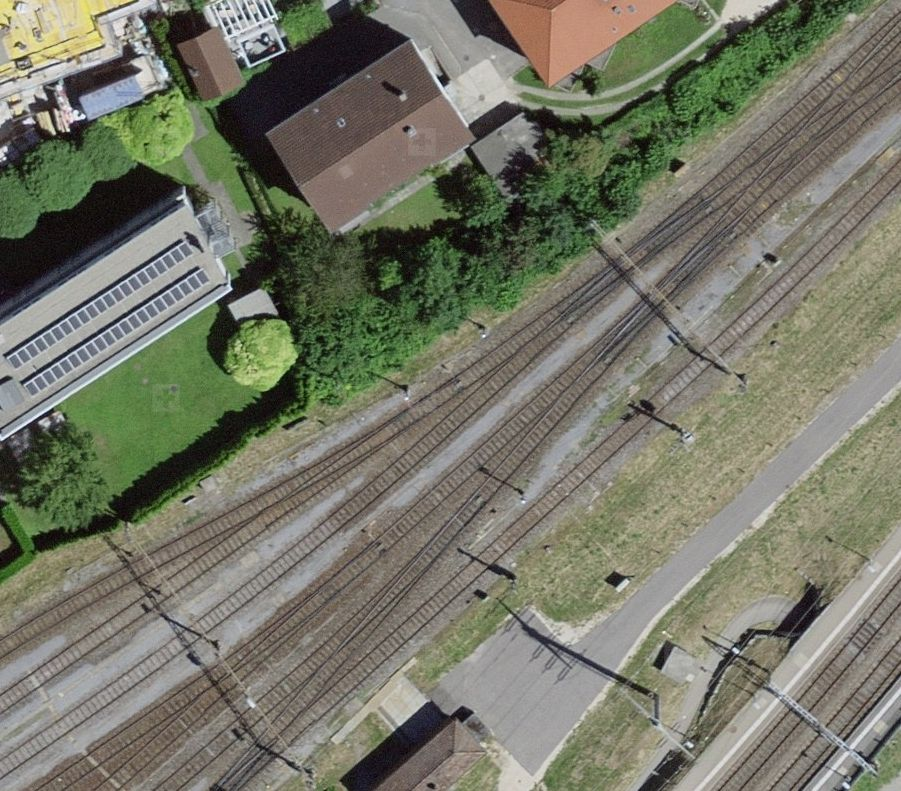solar: (4, 241, 211, 400)
